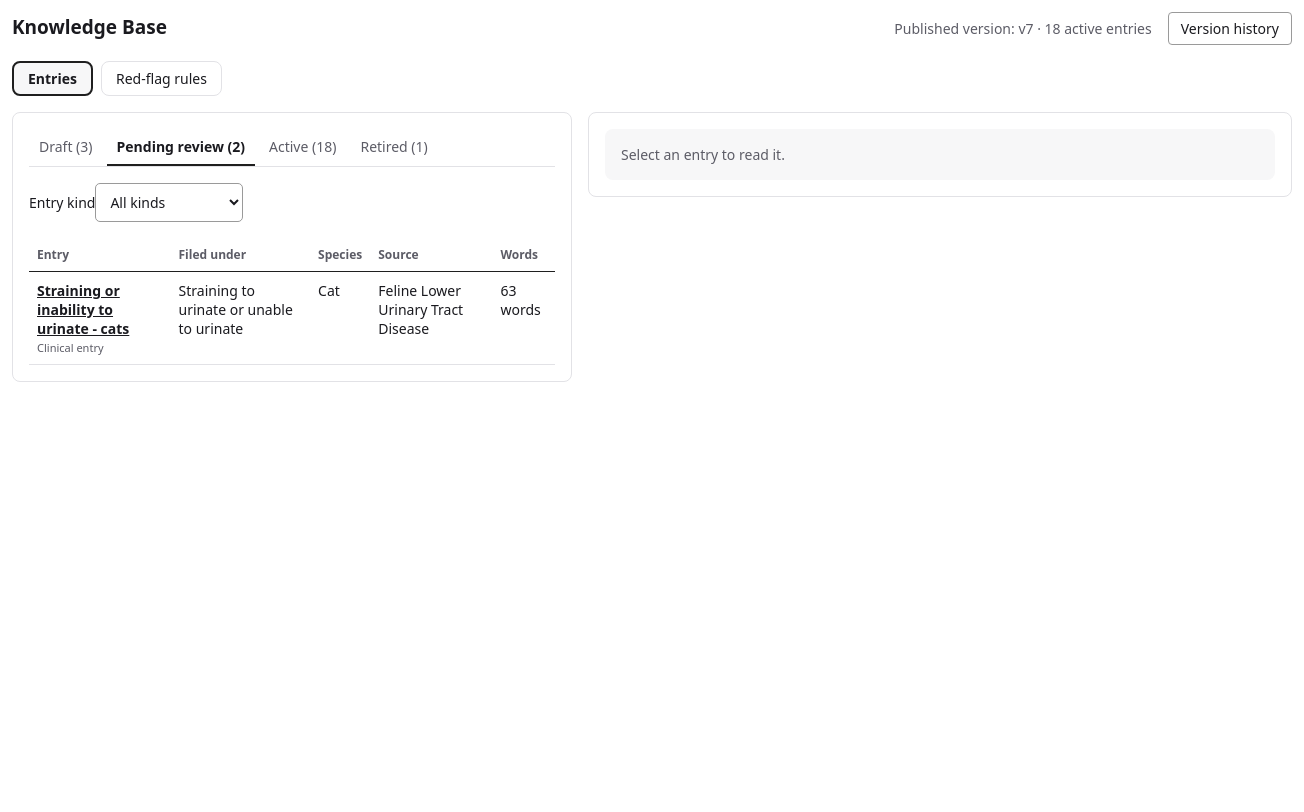
Test: approving and indexing (FR-53) › reports a failed indexing run with the entry still awaiting review
The image size is (1304, 812).
Click the button "Straining or inability to urinate - cats": {"x": 100, "y": 310} x1=37 y1=281 x2=162 y2=338
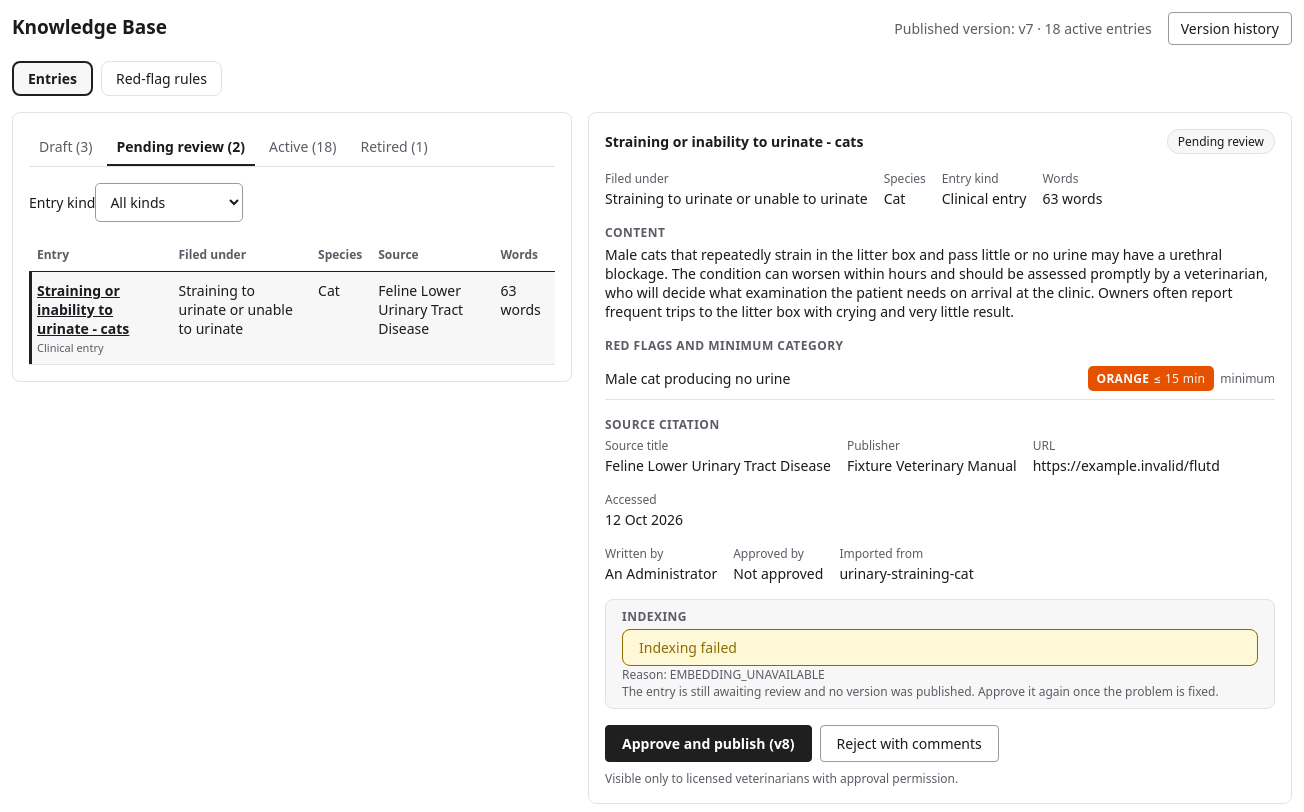
Result: the text "Indexing failed" is shown at x1=622 y1=629 x2=1258 y2=666
Result: the text "Pending review" is shown at x1=1167 y1=129 x2=1275 y2=154
